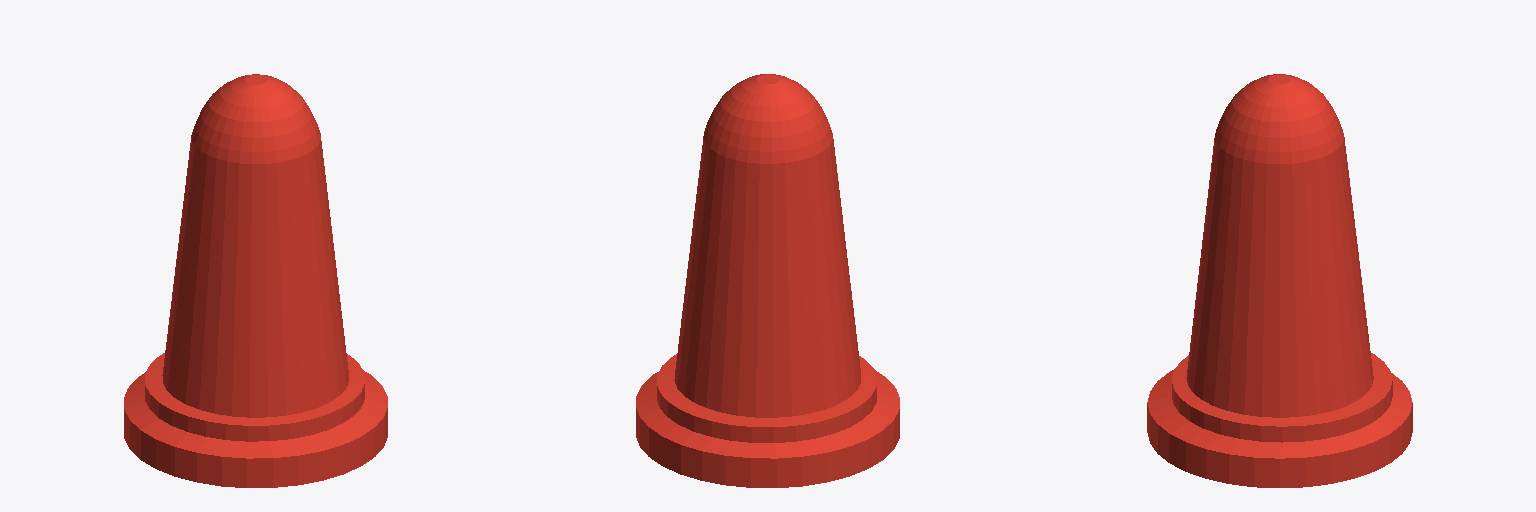
3 renders of one model, left to right at view 1: azimuth 30°, elevation 25°; view 2: azimuth 150°, elevation 25°; view 3: azimuth 270°, elevation 25°, orthographic.
Visible parts, largest first — view 1: Cylinder; view 2: Cylinder; view 3: Cylinder.
Boxes of the visible parts, <box> form: Cylinder: <box>124,74,387,487</box>; Cylinder: <box>636,74,899,487</box>; Cylinder: <box>1147,74,1412,487</box>.
Bounding box in the file's own units: 0.1556 × 0.2286 × 0.1556.
1 materials, 1 textured.